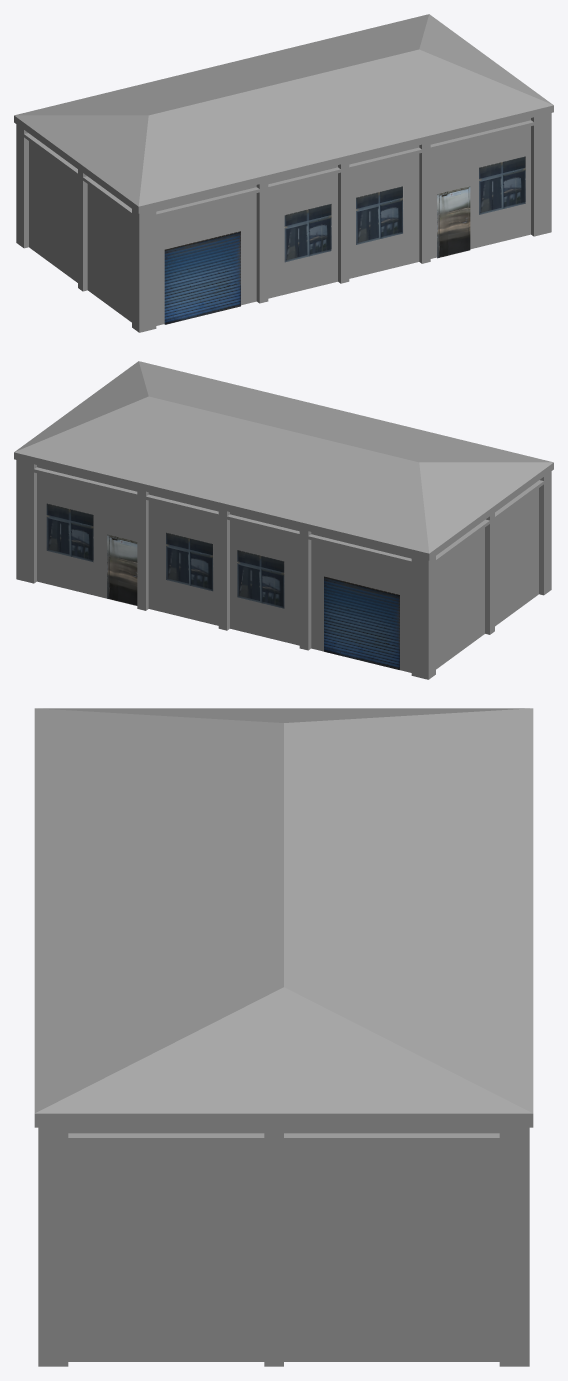
The model's file is PAC_PAM_JiaYaoJian.fbx.
The picture shows the model from 3 angles, top to bottom: view 1: azimuth 30°, elevation 25°; view 2: azimuth 150°, elevation 25°; view 3: azimuth 270°, elevation 25°; orthographic projection. The views are drawn at different scales.
Parts seen in each view (by area): view 1: JYJ, Men7, Men9, Men8, Men11, Men10; view 2: JYJ, Men6, Men1, Men5, Men4, Men; view 3: JYJ.
Boxes of the visible parts, x1,y1,x2,y2 form: JYJ: (14, 14, 553, 332); Men7: (164, 231, 240, 324); Men9: (356, 186, 403, 244); Men8: (284, 203, 331, 262); Men11: (479, 156, 525, 214); Men10: (437, 186, 470, 258); JYJ: (14, 361, 553, 679); Men6: (324, 576, 399, 669); Men1: (46, 503, 93, 562); Men5: (237, 550, 284, 608); Men4: (166, 532, 213, 591); Men: (107, 534, 137, 605); JYJ: (34, 708, 533, 1366).
Size of the model in its own units: 1774 by 634 by 923.
7 materials, 2 textured.
